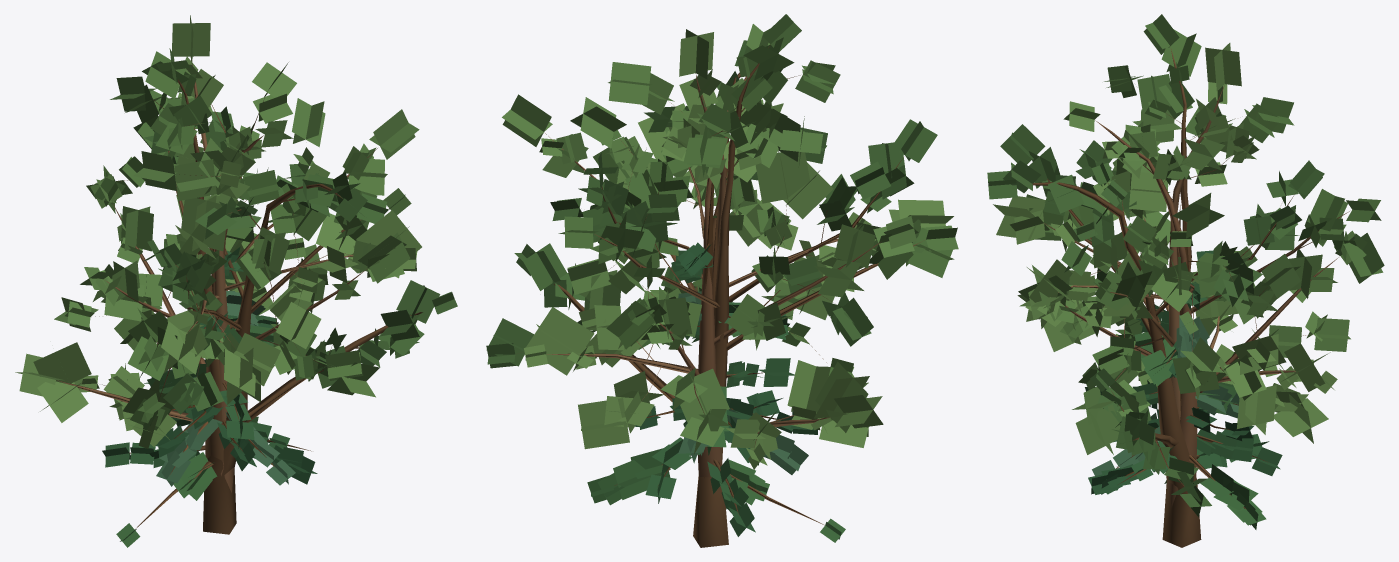
File: trees.glb
3 views of the same model, side by side, from view 1: azimuth 30°, elevation 25°; view 2: azimuth 150°, elevation 25°; view 3: azimuth 270°, elevation 25° (orthographic). The views are drawn at different scales.
Parts seen in each view (by area): view 1: tree_oak_b_leaves, tree_oak_d_leaves, tree_oak_a_leaves, tree_oak_c_leaves, tree_oak_c_branches, tree_conifer_a_leaves, tree_conifer_d_leaves, tree_conifer_c_leaves, tree_conifer_b_leaves, tree_oak_d_branches, tree_oak_a_branches, tree_oak_b_branches; view 2: tree_oak_d_leaves, tree_oak_b_leaves, tree_oak_a_leaves, tree_oak_c_leaves, tree_conifer_a_leaves, tree_oak_a_branches, tree_conifer_b_leaves, tree_oak_c_branches, tree_oak_b_branches, tree_conifer_c_leaves, tree_oak_d_branches, tree_conifer_d_leaves (+2 smaller); view 3: tree_oak_b_leaves, tree_oak_d_leaves, tree_oak_a_leaves, tree_oak_c_leaves, tree_oak_c_branches, tree_conifer_a_leaves, tree_conifer_b_leaves, tree_oak_b_branches, tree_conifer_d_leaves, tree_conifer_c_leaves, tree_oak_d_branches, tree_oak_a_branches.
Boxes of the visible parts, left/top/right/bottom form: tree_oak_b_leaves: left=54, top=62, right=419, bottom=397; tree_oak_d_leaves: left=15, top=15, right=421, bottom=448; tree_oak_a_leaves: left=86, top=48, right=411, bottom=433; tree_oak_c_leaves: left=142, top=72, right=457, bottom=414; tree_oak_c_branches: left=163, top=104, right=422, bottom=534; tree_conifer_a_leaves: left=102, top=246, right=289, bottom=467; tree_conifer_d_leaves: left=144, top=291, right=295, bottom=486; tree_conifer_c_leaves: left=150, top=315, right=317, bottom=484; tree_conifer_b_leaves: left=116, top=317, right=273, bottom=547; tree_oak_d_branches: left=57, top=57, right=353, bottom=424; tree_oak_a_branches: left=117, top=79, right=361, bottom=460; tree_oak_b_branches: left=95, top=96, right=377, bottom=492; tree_oak_d_leaves: left=524, top=29, right=953, bottom=469; tree_oak_b_leaves: left=502, top=24, right=918, bottom=454; tree_oak_a_leaves: left=558, top=14, right=958, bottom=376; tree_oak_c_leaves: left=486, top=40, right=937, bottom=368; tree_conifer_a_leaves: left=645, top=250, right=794, bottom=536; tree_oak_a_branches: left=594, top=46, right=924, bottom=465; tree_conifer_b_leaves: left=587, top=325, right=845, bottom=542; tree_oak_c_branches: left=554, top=72, right=903, bottom=547; tree_oak_b_branches: left=544, top=76, right=880, bottom=477; tree_conifer_c_leaves: left=635, top=242, right=817, bottom=465; tree_oak_d_branches: left=546, top=73, right=838, bottom=449; tree_conifer_d_leaves: left=671, top=291, right=808, bottom=474; tree_oak_b_leaves: left=1018, top=101, right=1354, bottom=454; tree_oak_d_leaves: left=993, top=43, right=1337, bottom=443; tree_oak_a_leaves: left=1026, top=14, right=1384, bottom=389; tree_oak_c_leaves: left=987, top=124, right=1324, bottom=517; tree_oak_c_branches: left=1032, top=179, right=1295, bottom=547; tree_conifer_a_leaves: left=1084, top=281, right=1282, bottom=480; tree_conifer_b_leaves: left=1134, top=332, right=1266, bottom=529; tree_oak_b_branches: left=1060, top=120, right=1338, bottom=506; tree_conifer_d_leaves: left=1092, top=315, right=1239, bottom=475; tree_conifer_c_leaves: left=1088, top=250, right=1253, bottom=494; tree_oak_d_branches: left=1044, top=85, right=1298, bottom=420; tree_oak_a_branches: left=1085, top=49, right=1349, bottom=348.
Bounding box in the file's own units: 22.06 × 27.01 × 19.58.
